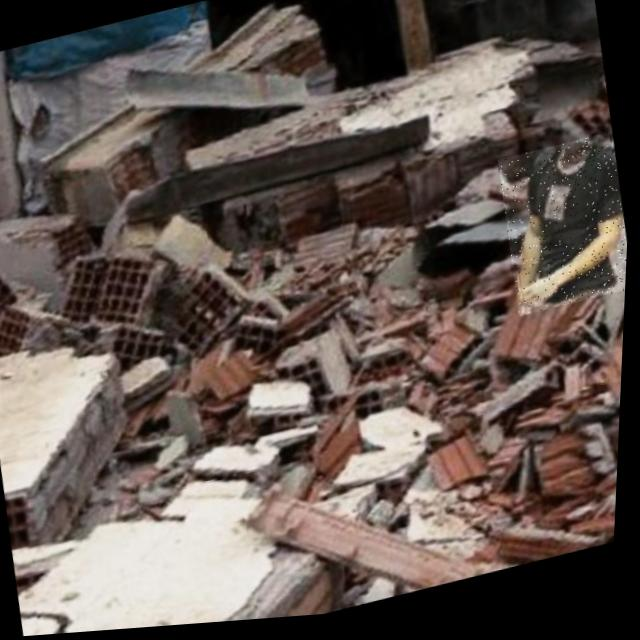Person in Rubble: (494, 139, 634, 326)
